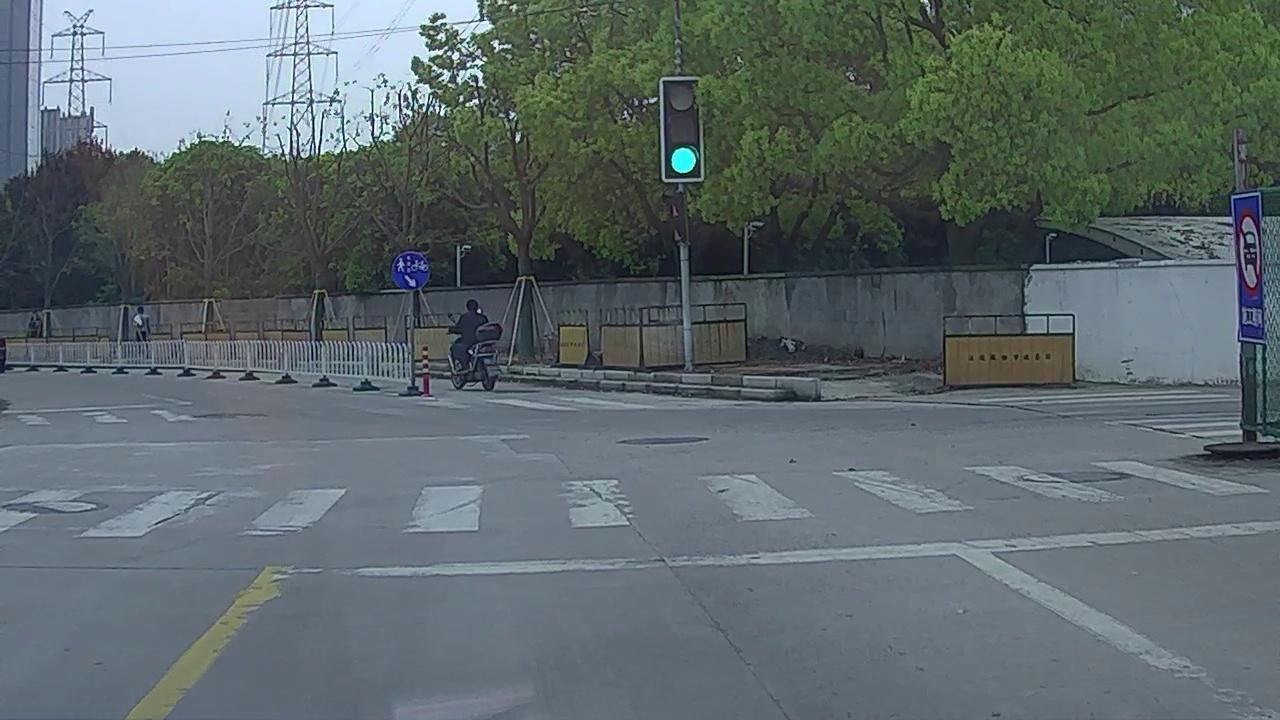traffic_light: (664, 82, 703, 183)
